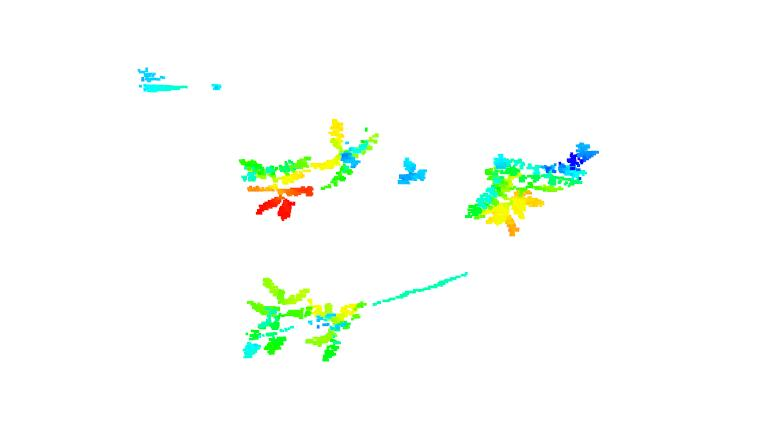chickpea: (236, 268, 309, 360), (234, 153, 317, 227), (316, 106, 385, 190), (470, 163, 546, 238), (307, 290, 370, 365), (530, 138, 602, 201), (396, 158, 439, 195)
